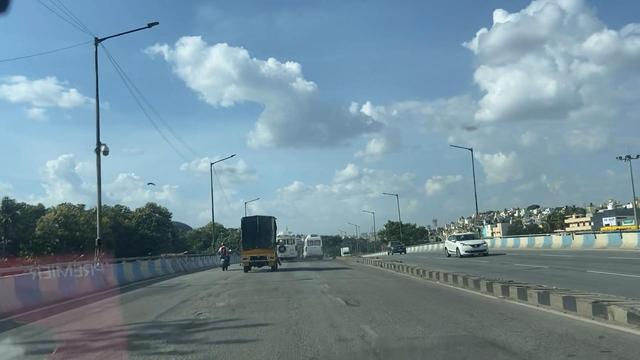HMV: (229, 213, 281, 273)
LMV: (210, 239, 232, 272)
RoadDamages: (316, 277, 367, 338), (173, 290, 223, 338)
